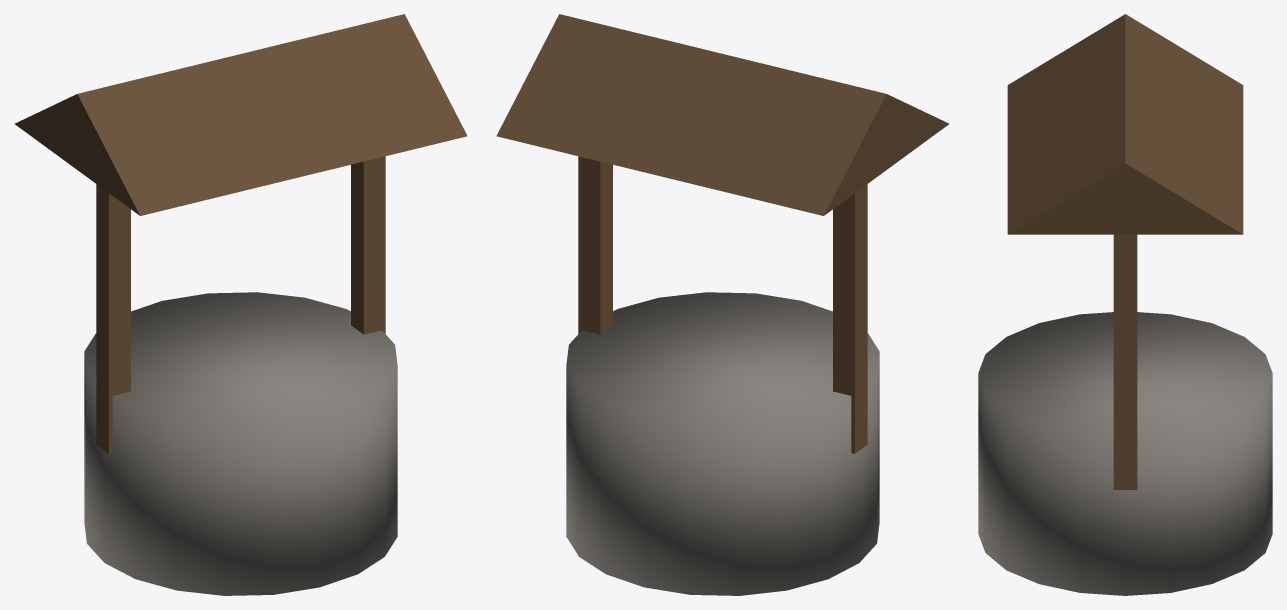
File: Well.fbx
The picture shows the model from 3 angles, left to right: view 1: azimuth 30°, elevation 25°; view 2: azimuth 150°, elevation 25°; view 3: azimuth 270°, elevation 25°; orthographic projection. The views are drawn at different scales.
Visible parts, largest first — view 1: Ring, RoofB, Post-1, Post1, RoofA; view 2: Ring, RoofA, Post-1, Post1, RoofB; view 3: Ring, RoofA, RoofB, Post1.
Part boxes in pixels (x1,y1,x2,y2): Ring: [84, 292, 397, 595]; RoofB: [77, 14, 467, 215]; Post-1: [96, 184, 130, 453]; Post1: [351, 156, 385, 334]; RoofA: [14, 94, 77, 169]; Ring: [566, 292, 879, 595]; RoofA: [496, 14, 886, 215]; Post-1: [833, 184, 867, 453]; Post1: [578, 156, 612, 334]; RoofB: [886, 94, 949, 169]; Ring: [978, 312, 1272, 595]; RoofA: [1125, 14, 1243, 234]; RoofB: [1007, 14, 1125, 234]; Post1: [1113, 234, 1137, 489].
Size of the model in its own units: 180 by 150 by 250.
